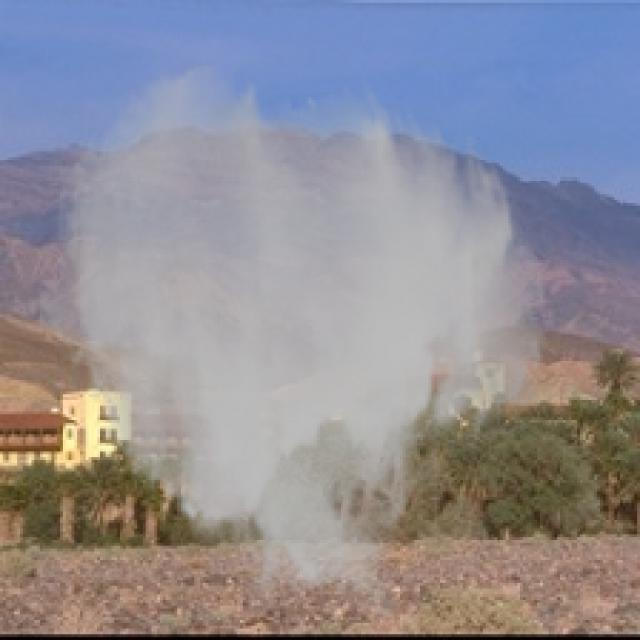smoke: (26, 60, 551, 626)
